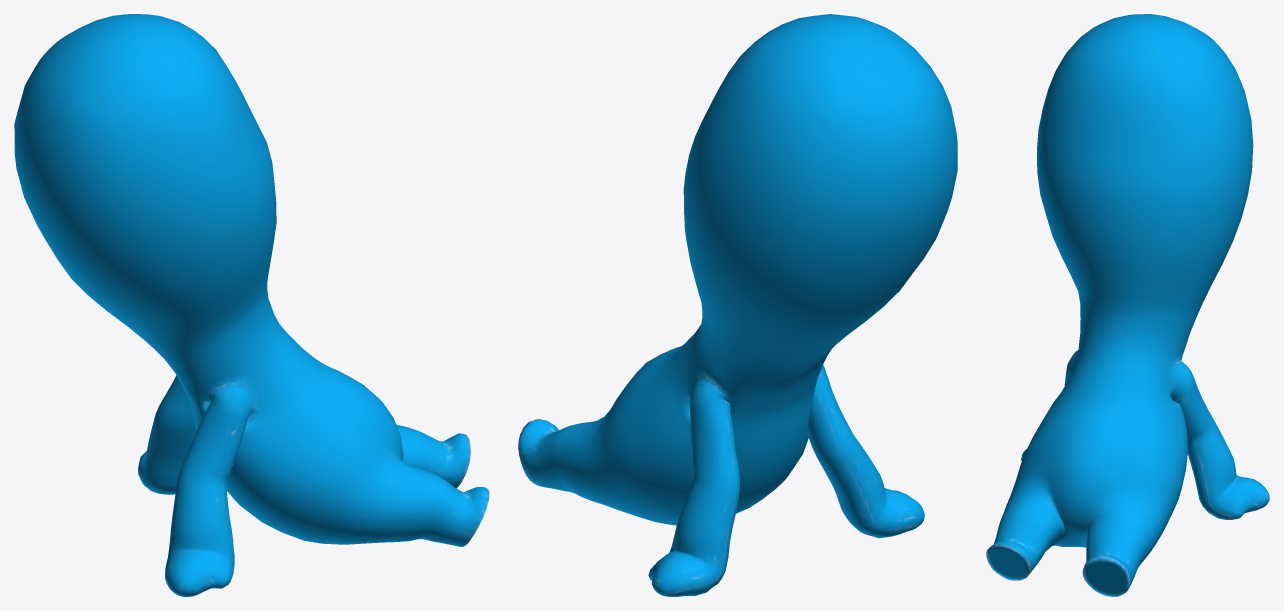
File: virtual player 4.fbx
3 views of the same model, side by side, from view 1: azimuth 30°, elevation 25°; view 2: azimuth 150°, elevation 25°; view 3: azimuth 270°, elevation 25° (orthographic). The views are drawn at different scales.
Visible parts, largest first — view 1: node_id80; view 2: node_id80; view 3: node_id80.
Part boxes in pixels (x1,y1,x2,y2): node_id80: (14,14,489,596); node_id80: (518,14,957,596); node_id80: (986,14,1269,596).
Bounding box in the file's own units: 0.4235 × 0.512 × 0.2906.
1 material, 1 textured.
